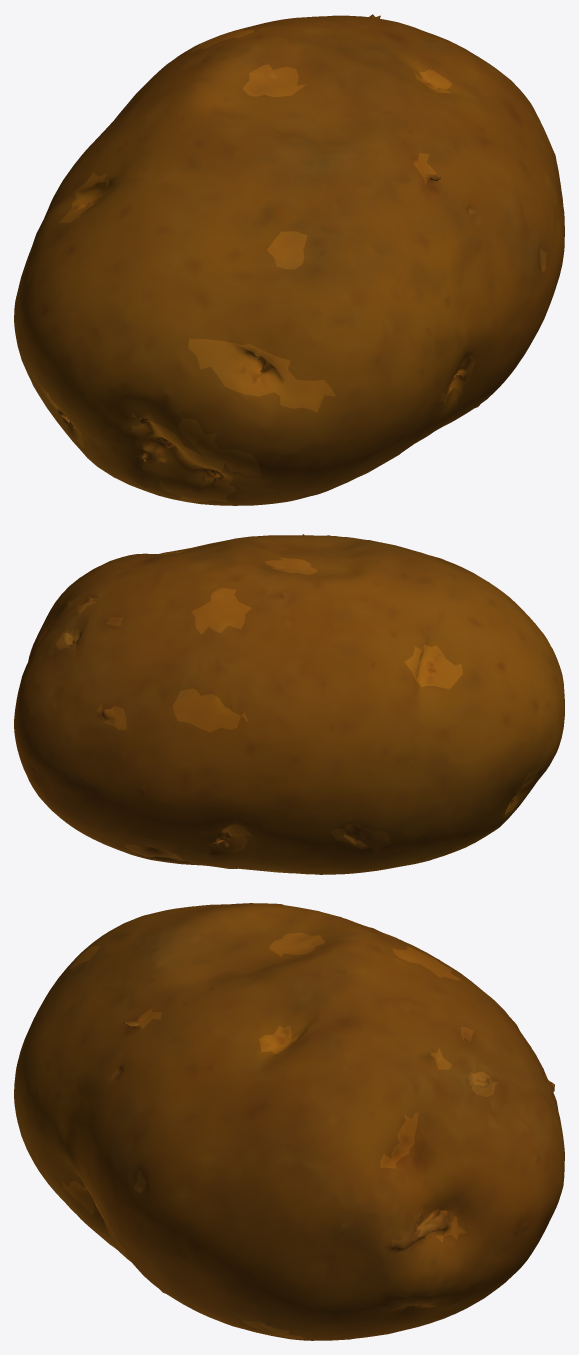
The model's file is Potato.fbx.
3 renders of one model, top to bottom at view 1: azimuth 30°, elevation 25°; view 2: azimuth 150°, elevation 25°; view 3: azimuth 270°, elevation 25°, orthographic. The views are drawn at different scales.
Visible parts, largest first — view 1: Potatoes 2; view 2: Potatoes 2; view 3: Potatoes 2.
Boxes of the visible parts, bbox=[...] form: Potatoes 2: bbox=[14, 14, 564, 505]; Potatoes 2: bbox=[14, 534, 564, 874]; Potatoes 2: bbox=[14, 903, 564, 1340].
Size of the model in its own units: 339 by 213 by 306.
